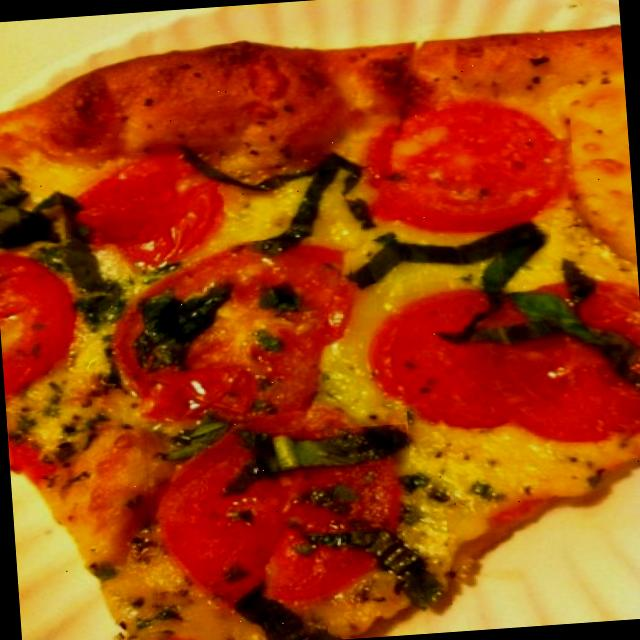basil: (298, 514, 452, 614), (233, 154, 366, 242), (351, 228, 554, 284), (45, 230, 142, 338), (254, 424, 408, 476), (490, 275, 598, 342), (0, 170, 81, 250), (226, 582, 328, 640)
pizza: (0, 27, 640, 640)
tomato: (146, 405, 420, 612), (112, 240, 360, 439), (355, 97, 577, 240), (378, 276, 566, 434), (501, 265, 640, 446), (52, 147, 228, 280), (0, 237, 91, 413)
